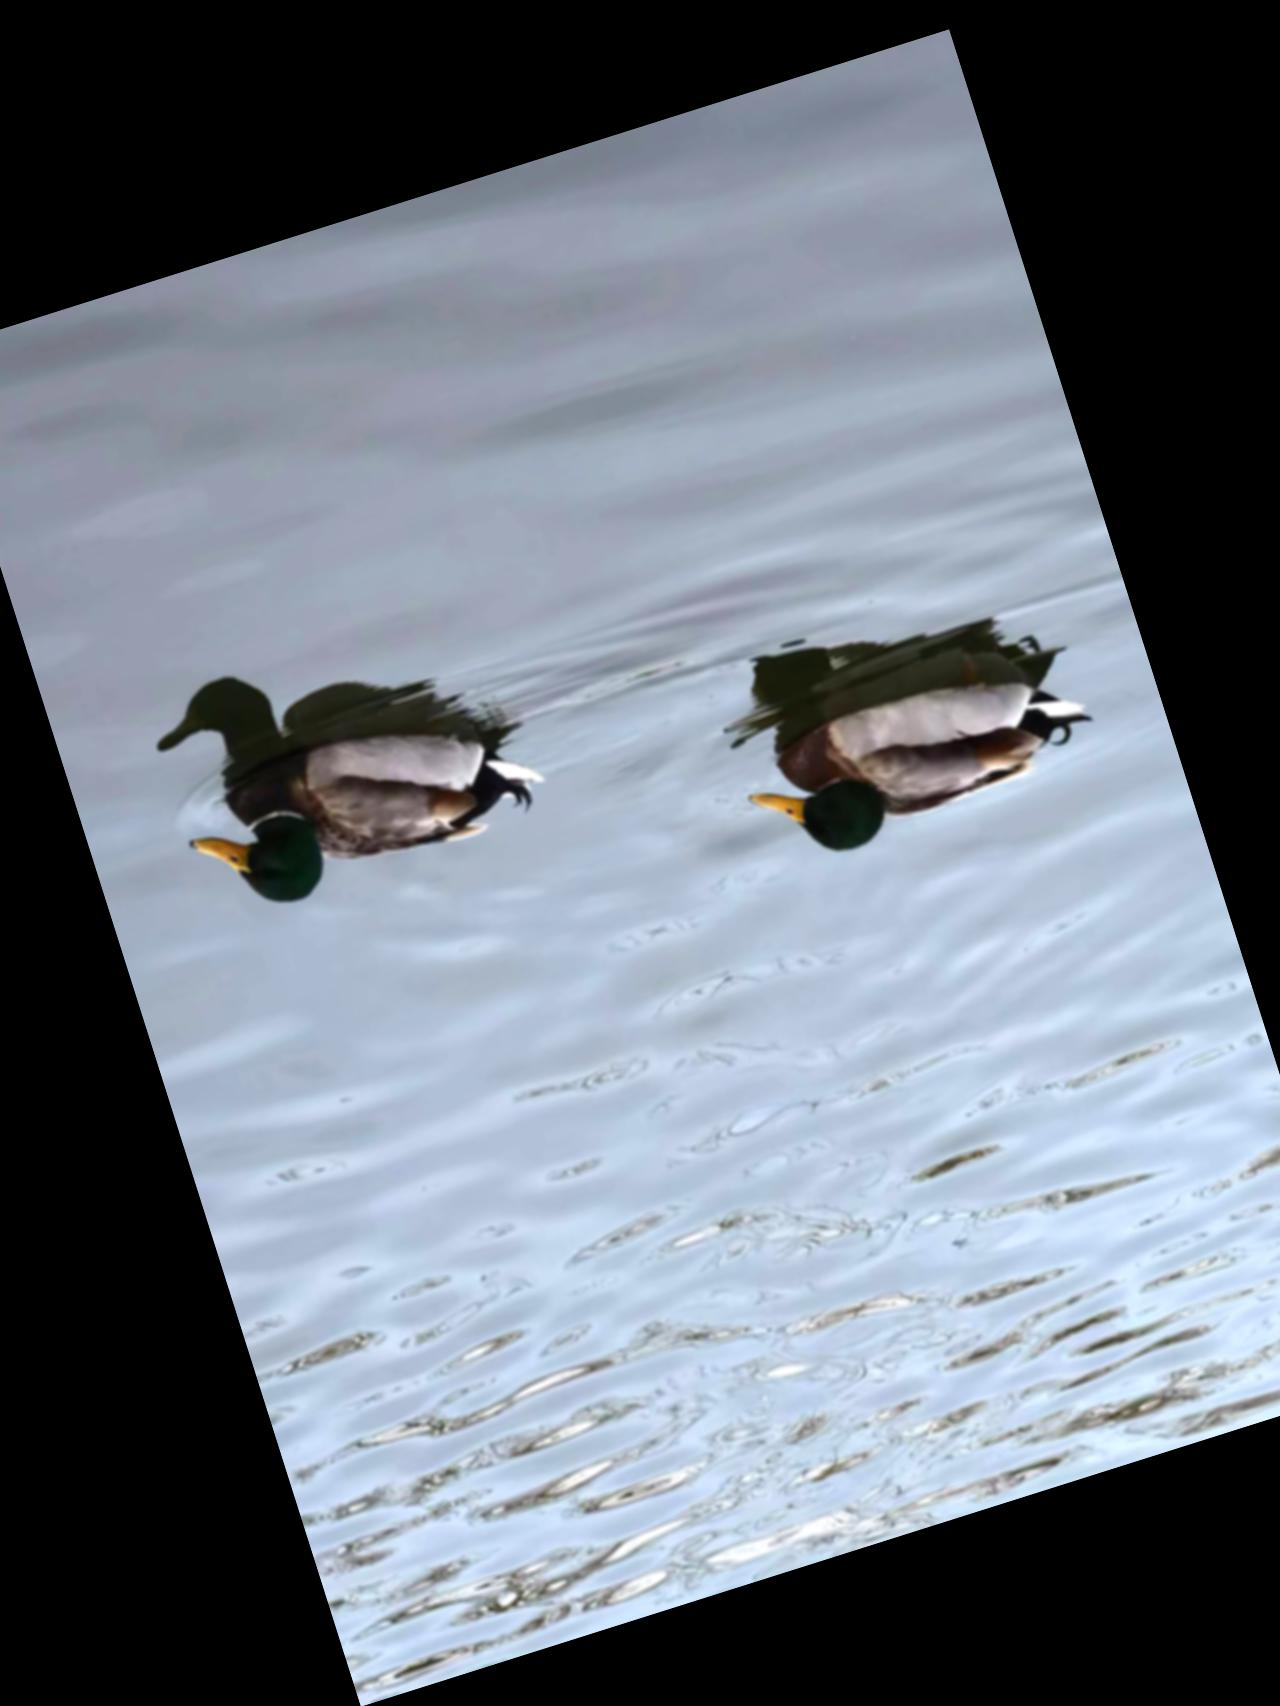duck: (705, 592, 1119, 903), (167, 668, 577, 953)
